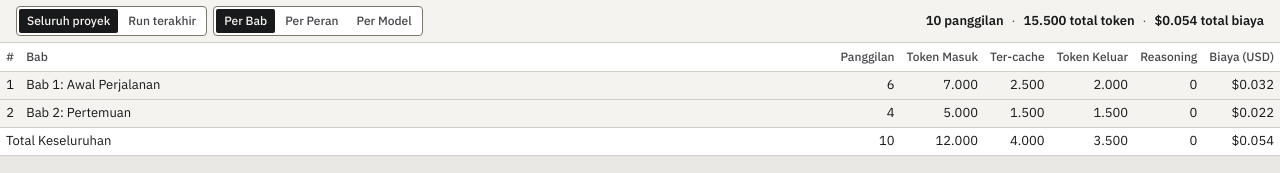
Test: UsageTab › switches to role grouping when role option is selected
Click the radio button labelled "Per Peran" at (312, 21), box [277,9,347,33]
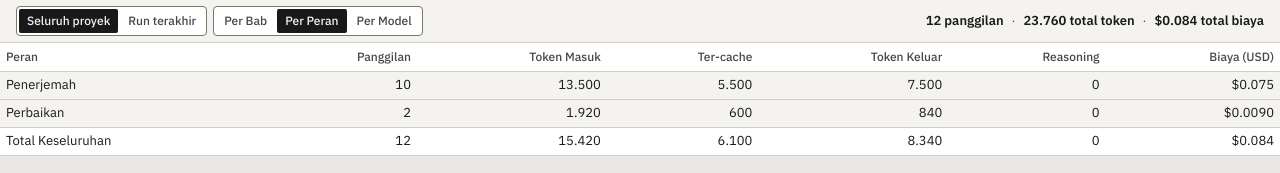
Expected: the text "Penerjemah" is shown, [0,71,267,99]
Expected: the text "Perbaikan" is shown, [0,99,267,127]
